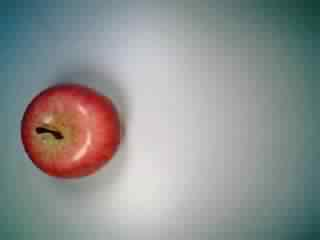apple: (17, 80, 124, 184)
